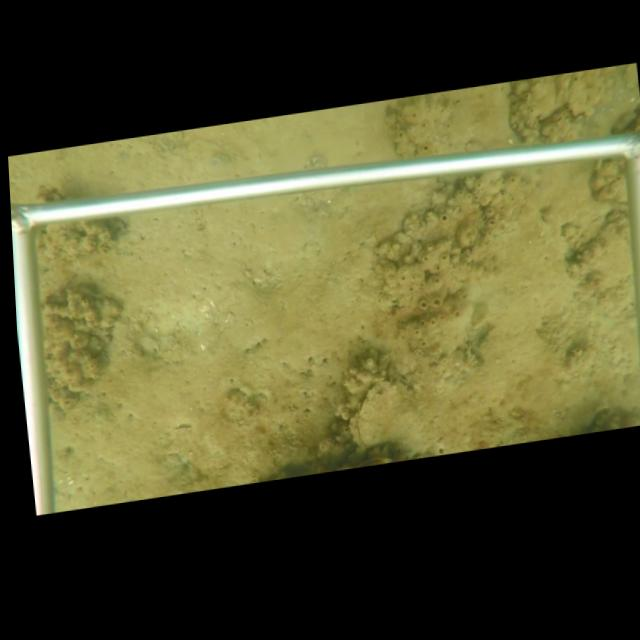Oyster-Closed: (347, 379, 453, 455)
